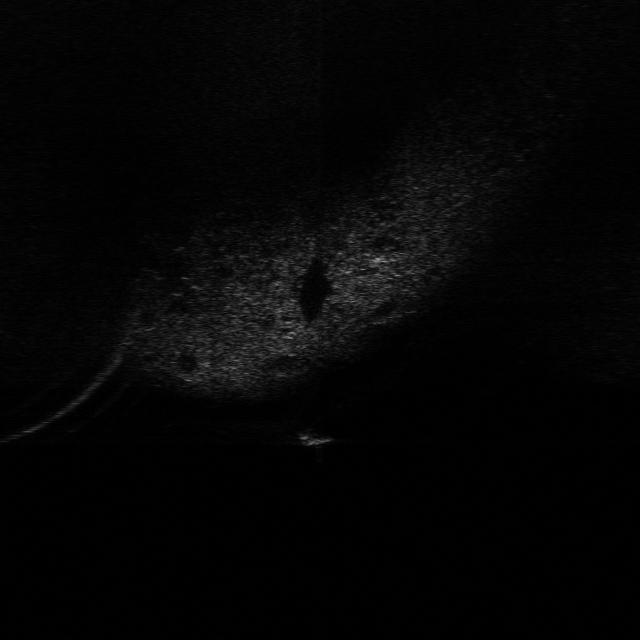cube: (293, 425, 336, 450)
